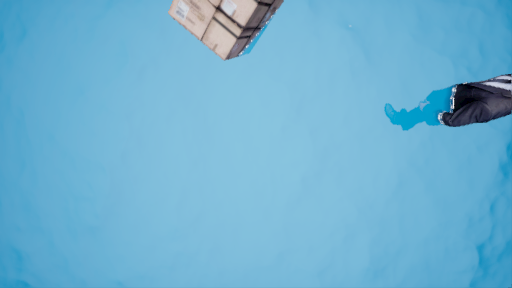person: (384, 64, 512, 138)
